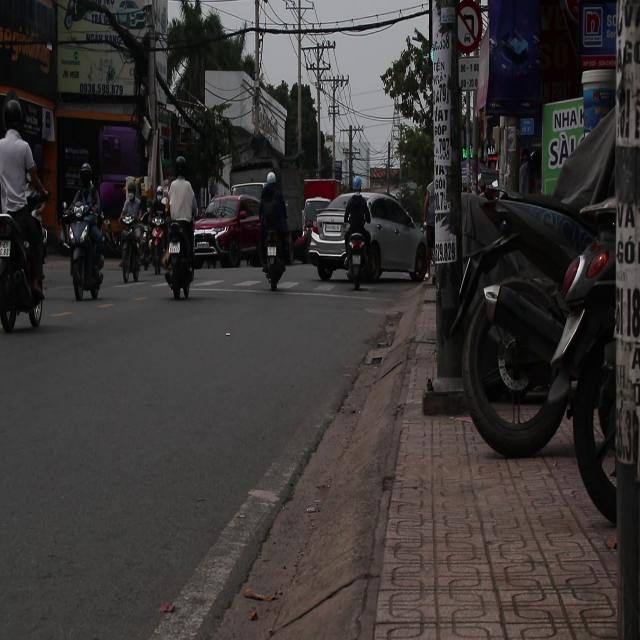car: (307, 189, 430, 286), (192, 192, 261, 267)
motorbike: (0, 204, 47, 334), (59, 181, 107, 301), (325, 194, 380, 298), (255, 193, 298, 301), (118, 194, 144, 305), (163, 220, 196, 300), (148, 200, 172, 284)
